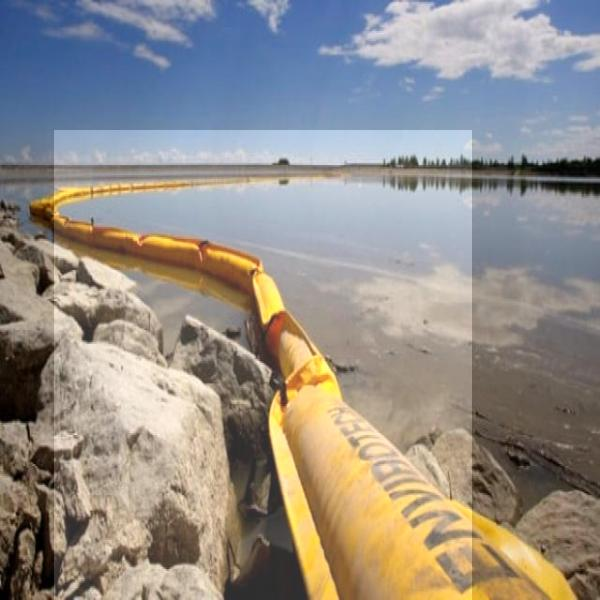no leak: (54, 130, 472, 600)
